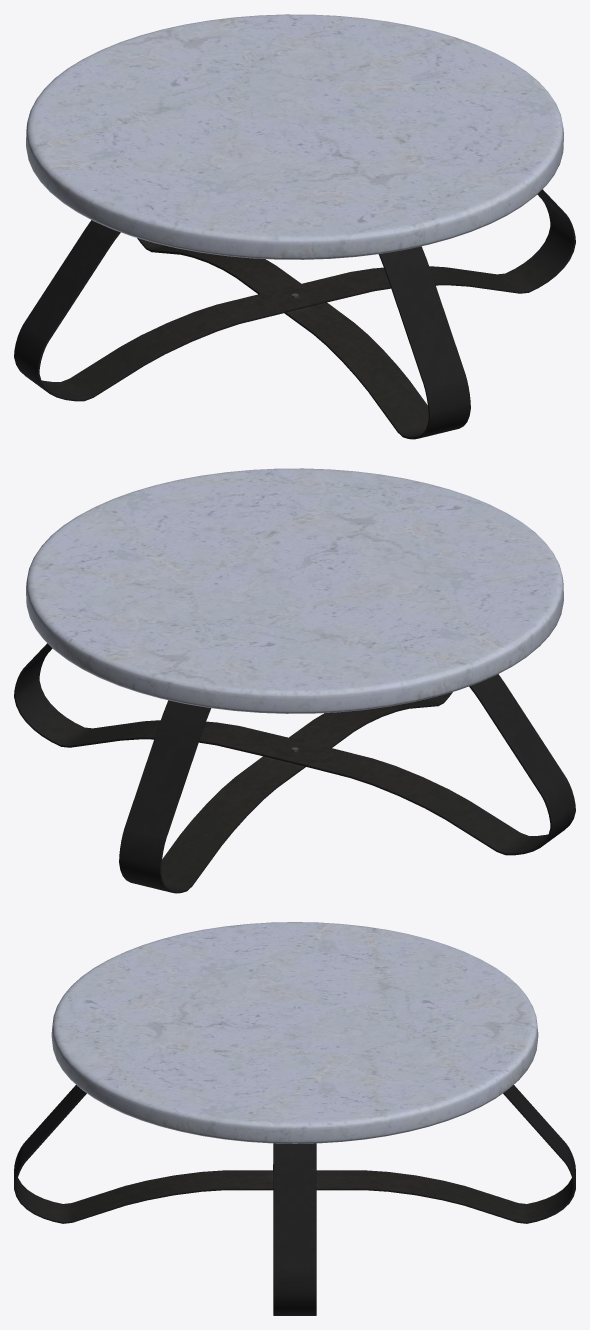
Rendered from coffee-table.glb.
3 views of the same model, one above another, from view 1: azimuth 30°, elevation 25°; view 2: azimuth 150°, elevation 25°; view 3: azimuth 270°, elevation 25° (orthographic). The views are drawn at different scales.
Visible parts, largest first — view 1: coffee_table_round_01; view 2: coffee_table_round_01; view 3: coffee_table_round_01.
Part boxes in pixels (left/top/right/bottom): coffee_table_round_01: left=14, top=14, right=575, bottom=439; coffee_table_round_01: left=14, top=468, right=575, bottom=893; coffee_table_round_01: left=14, top=922, right=575, bottom=1315.
Bounding box in the file's own units: 1.3 × 0.491 × 1.3.
Materials: 1 (1 with a texture image).
